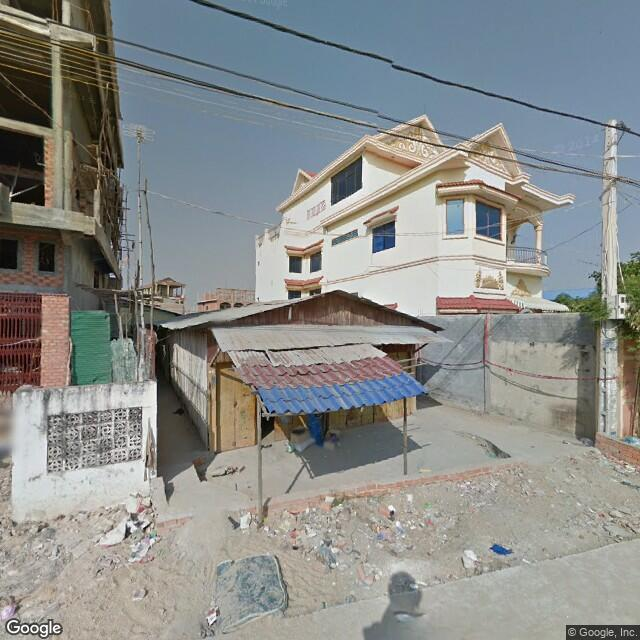litter: (194, 550, 296, 635), (99, 498, 167, 564), (446, 547, 486, 572), (1, 590, 22, 627), (228, 512, 264, 533), (487, 538, 515, 564), (128, 582, 154, 606), (323, 494, 351, 516), (408, 574, 431, 597), (305, 521, 322, 548), (394, 521, 405, 535), (333, 537, 339, 558)
